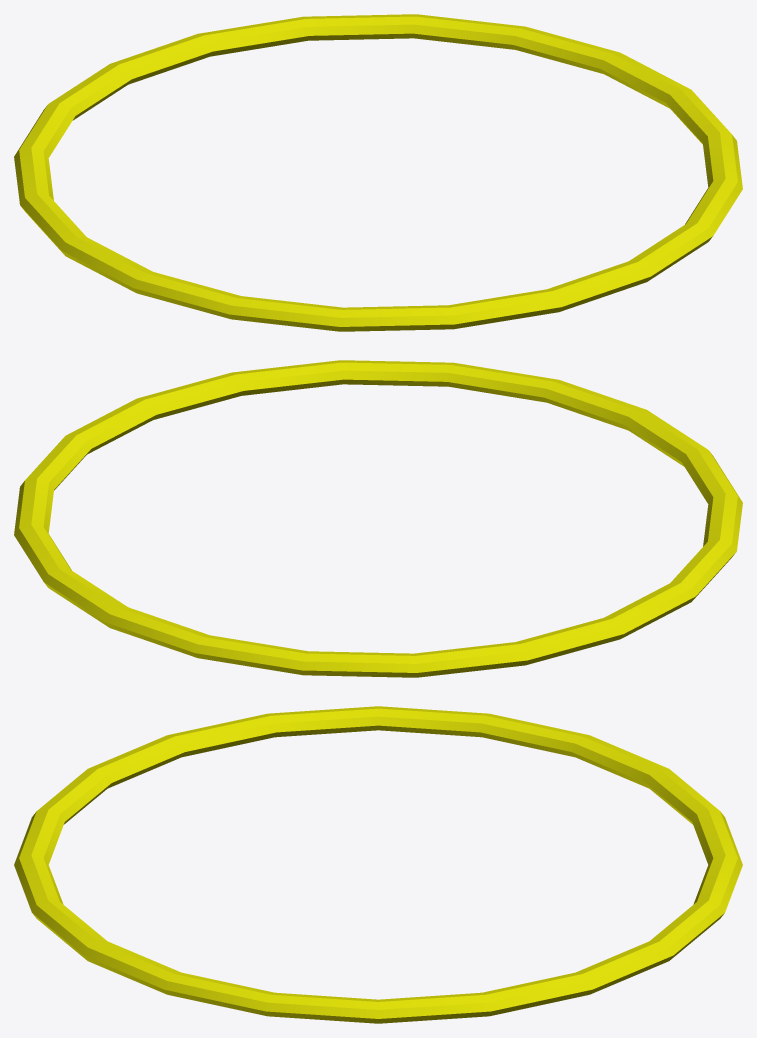
The model's file is enemyBossRing.fbx.
The picture shows the model from 3 angles, top to bottom: view 1: azimuth 30°, elevation 25°; view 2: azimuth 150°, elevation 25°; view 3: azimuth 270°, elevation 25°; orthographic projection.
Visible parts, largest first — view 1: pTorus1; view 2: pTorus1; view 3: pTorus1.
Part boxes in pixels (x1=…): pTorus1: x1=14, y1=14, x2=742, y2=331; pTorus1: x1=14, y1=360, x2=742, y2=677; pTorus1: x1=14, y1=706, x2=742, y2=1023.
Bounding box in the file's own units: 23.41 × 0.6899 × 23.41.
